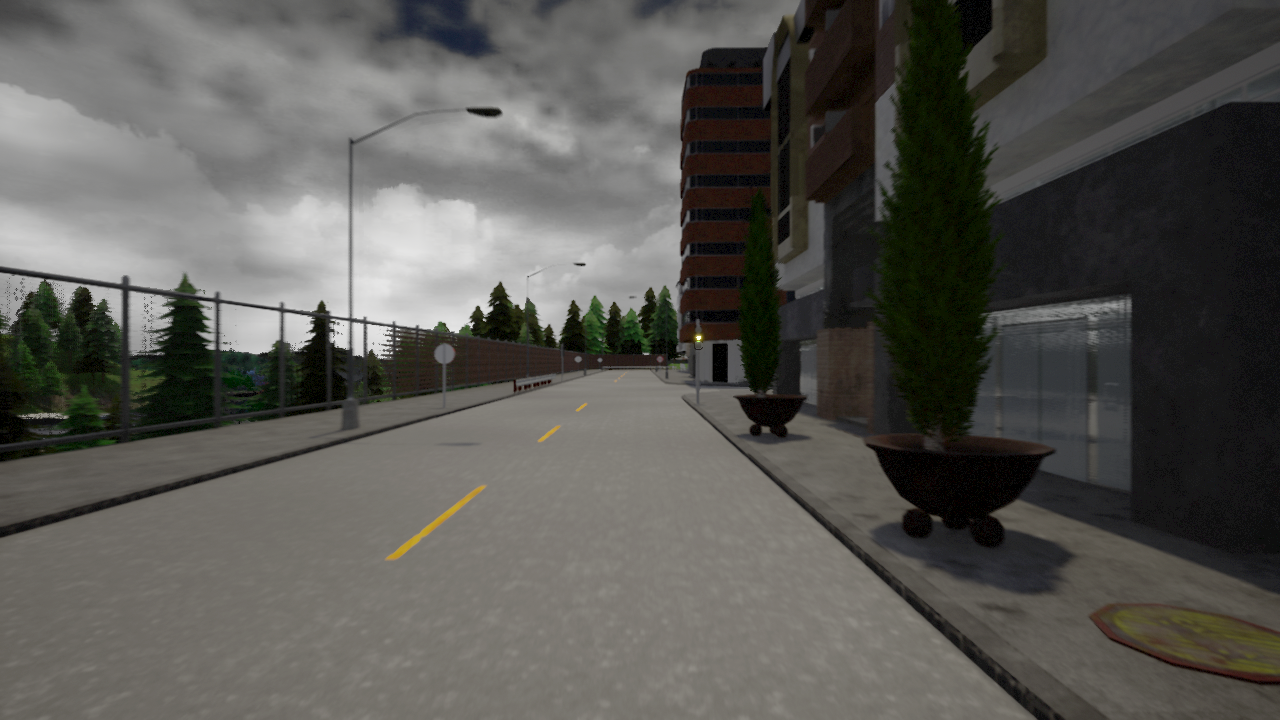yellow: (693, 323, 704, 351)
